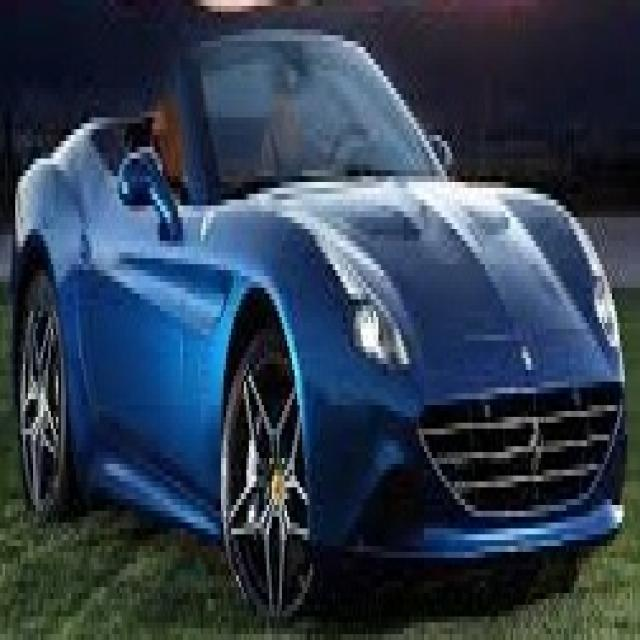blue: (13, 21, 628, 613)
